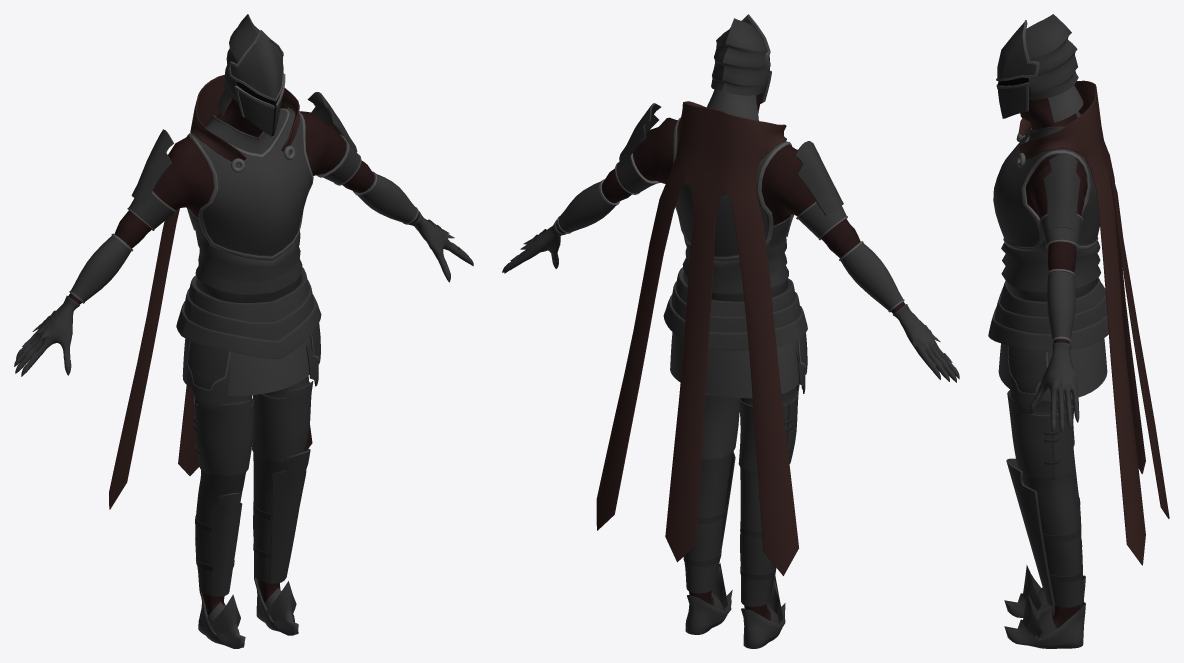
File: knight_combined.fbx
The picture shows the model from 3 angles, left to right: view 1: azimuth 30°, elevation 25°; view 2: azimuth 150°, elevation 25°; view 3: azimuth 270°, elevation 25°; orthographic projection.
Parts seen in each view (by area): view 1: geo_egon; view 2: geo_egon; view 3: geo_egon.
Boxes of the visible parts, x1,y1,x2,y2 form: geo_egon: [14, 14, 473, 648]; geo_egon: [502, 14, 959, 648]; geo_egon: [988, 14, 1169, 648].
Bounding box in the file's own units: 172 × 222 × 59.21.
